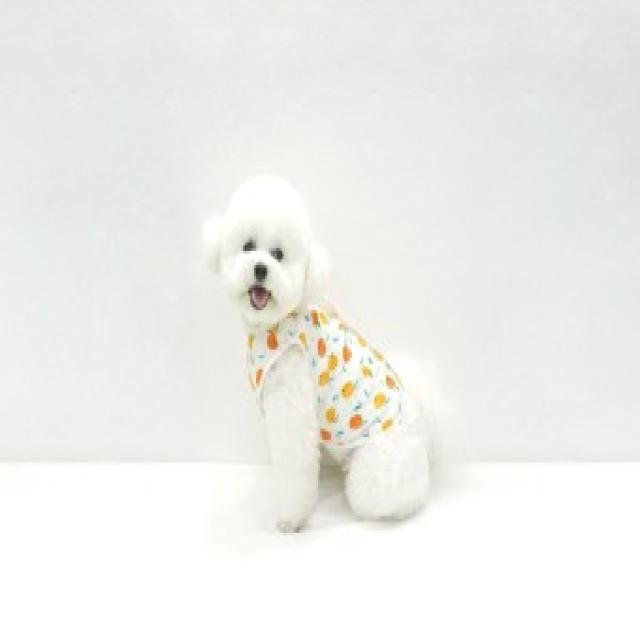cloth: (248, 301, 405, 462)
